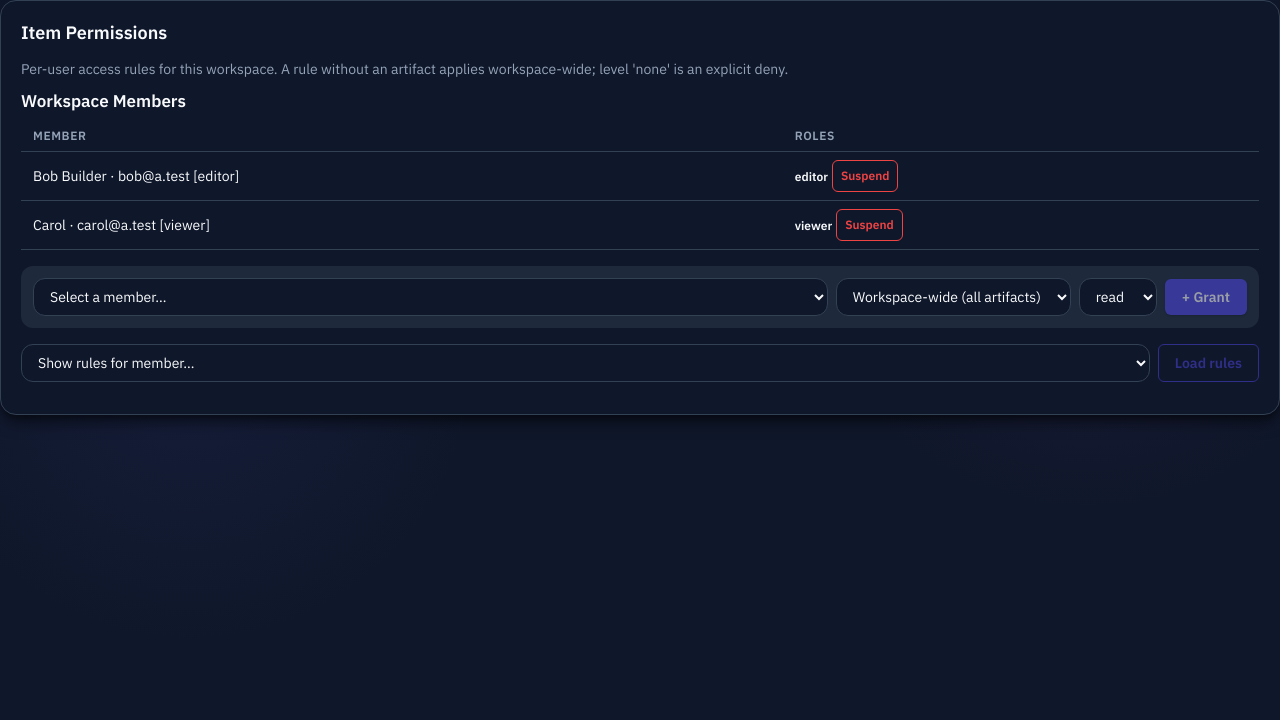
Test: PermissionsSection workspace members suspend/reactivate (Task 13) › surfaces a LAST_ADMIN error inline, naming the blocking scope
Click the button "Suspend" in the row of "Bob Builder · bob@a.test [editor]": (865,176) [832,160,898,192]
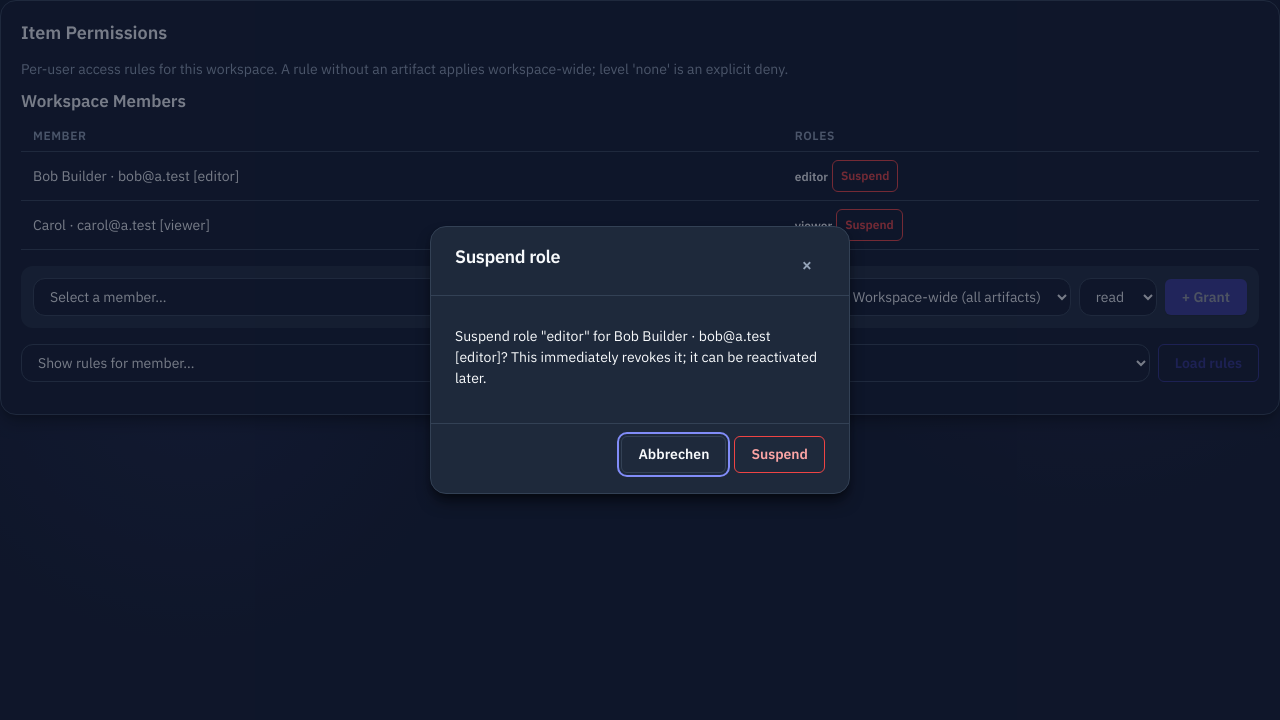
Note: Confirm dialog must be clicked before error handling is checked
Click the button with test id "workspace-member-suspend-confirm-confirm": (780,454) [734,436,825,473]
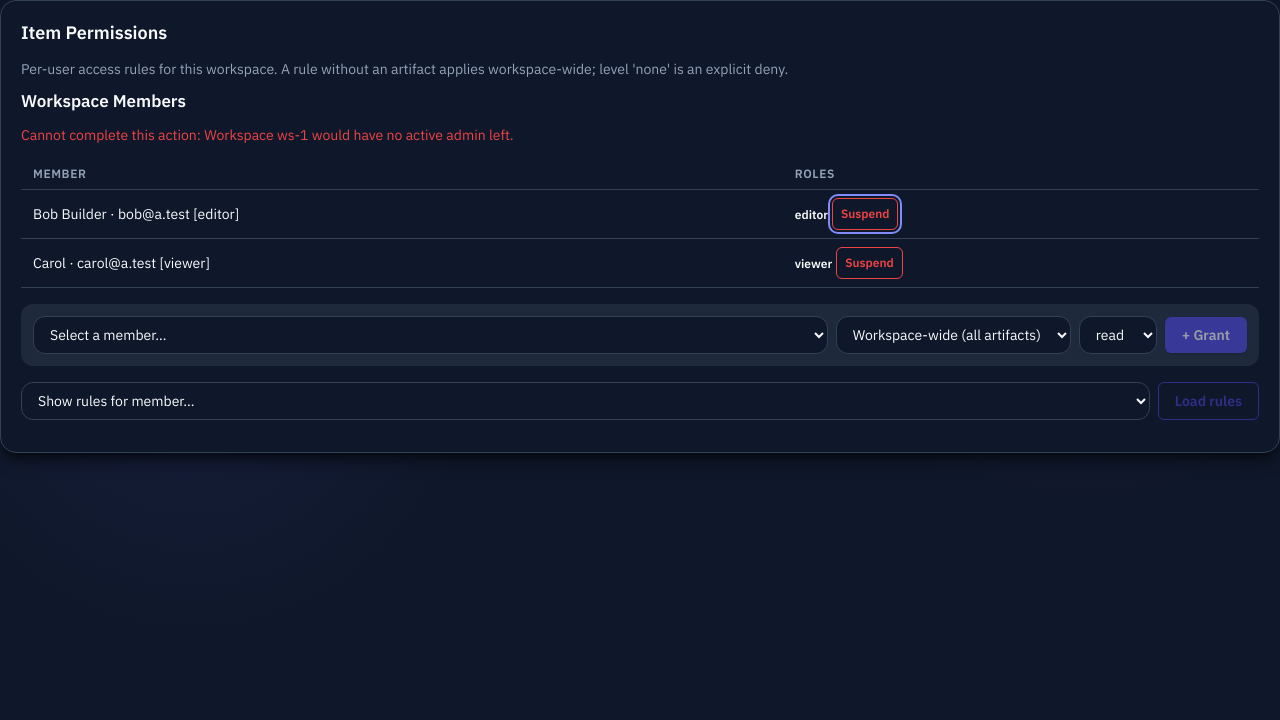
Check: the message with test id "workspace-members-error" shows "no active admin", box [21,126,514,144]
Check: the message with test id "workspace-members-error" shows "Workspace", box [21,126,514,144]
Check: the message with test id "workspace-members-error" shows "ws-1", box [21,126,514,144]
